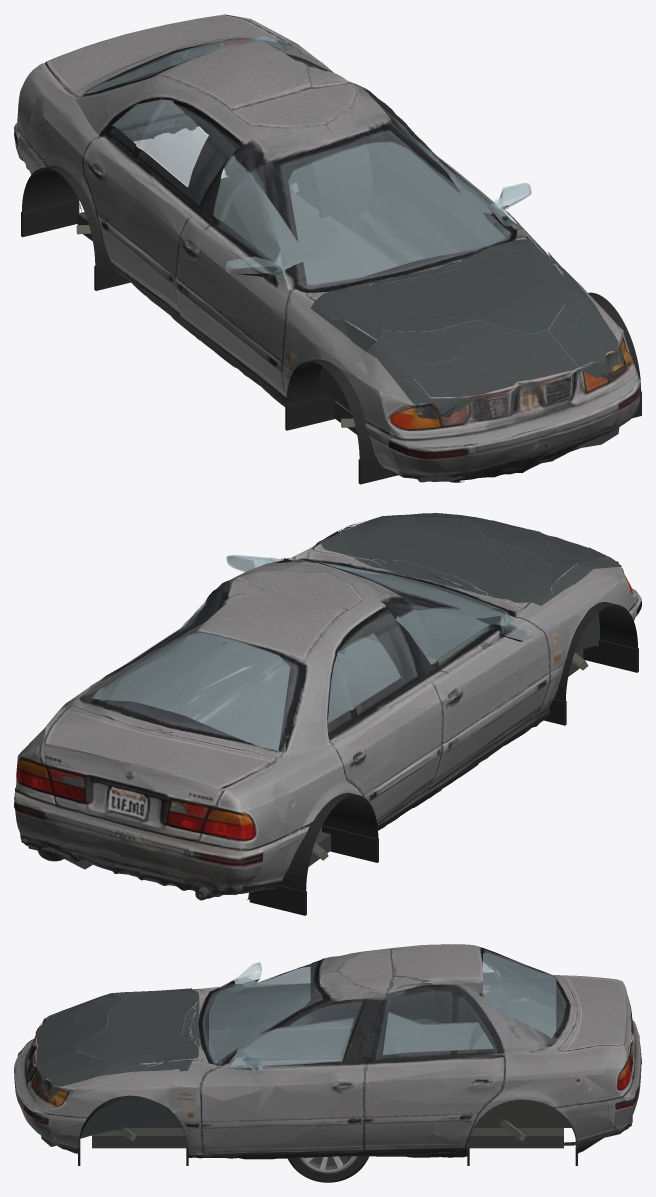
File: silver-city-sedan.glb
3 views of the same model, one above another, from view 1: azimuth 30°, elevation 25°; view 2: azimuth 150°, elevation 25°; view 3: azimuth 270°, elevation 25° (orthographic). The views are drawn at different scales.
Visible parts, largest first — view 1: PaintedBody, Bonnet, WheelWells, Windshield, DoorFrontL, DoorRearL, GlassFrontL, DoorRearR, DoorFrontR, GlassRearL, GlassFrontR, RearGlass (+1 smaller); view 2: PaintedBody, Bonnet, WheelWells, DoorFrontL, RearGlass, DoorRearL, EngineCompartment, DoorFrontR, GlassFrontL, GlassRearL, DoorRearR, Windshield (+1 smaller); view 3: PaintedBody, DoorFrontR, Bonnet, DoorRearR, WheelWells, DoorFrontL, Windshield, GlassFrontR, RearGlass, GlassRearR, DoorRearL, EngineCompartment (+2 smaller).
Part boxes in pixels (box(x1,y1,x2,y2)): PaintedBody: box(14, 14, 640, 482); Bonnet: box(310, 239, 626, 417); WheelWells: box(21, 143, 641, 484); Windshield: box(288, 141, 507, 285); DoorFrontL: box(173, 152, 329, 393); DoorRearL: box(87, 127, 218, 315); GlassFrontL: box(213, 155, 302, 281); DoorRearR: box(367, 100, 443, 252); DoorFrontR: box(390, 111, 542, 255); GlassRearL: box(112, 99, 208, 187); GlassFrontR: box(395, 119, 531, 226); RearGlass: box(85, 36, 286, 93); PaintedBody: box(14, 520, 641, 900); Bonnet: box(315, 513, 623, 606); WheelWells: box(28, 579, 638, 915); DoorFrontL: box(391, 603, 548, 787); RearGlass: box(91, 631, 290, 750); DoorRearL: box(327, 628, 437, 822); EngineCompartment: box(330, 565, 599, 659); DoorFrontR: box(171, 551, 332, 717); GlassFrontL: box(395, 607, 532, 664); GlassRearL: box(327, 632, 401, 723); DoorRearR: box(91, 589, 215, 710); Windshield: box(298, 560, 503, 611); PaintedBody: box(14, 944, 641, 1159); DoorFrontR: box(201, 1016, 366, 1148); Bonnet: box(35, 988, 199, 1099); DoorRearR: box(369, 1013, 502, 1148); WheelWells: box(78, 1002, 577, 1165); DoorFrontL: box(201, 979, 354, 1055); Windshield: box(209, 967, 310, 1062); GlassFrontR: box(228, 1016, 354, 1075); RearGlass: box(483, 952, 556, 1038); GlassRearR: box(382, 1012, 493, 1054); DoorRearL: box(383, 972, 502, 1055); EngineCompartment: box(37, 1087, 180, 1146).
Bounding box in the file's own units: 1.96 × 1.76 × 4.7.
Materials: 7 (3 with a texture image).
